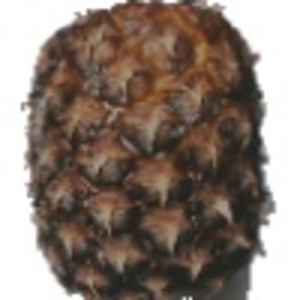abacaxi: (19, 1, 277, 298)
